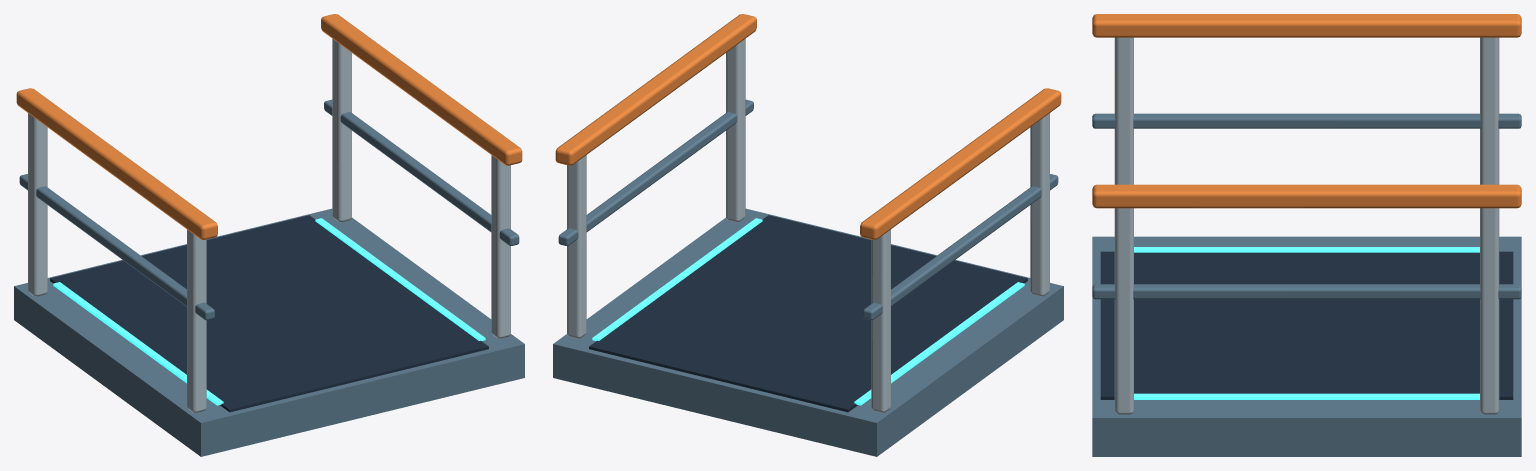
File: bridge-segment.glb
3 renders of one model, left to right at view 1: azimuth 30°, elevation 25°; view 2: azimuth 150°, elevation 25°; view 3: azimuth 270°, elevation 25°, orthographic. The views are drawn at different scales.
Parts seen in each view (by area): view 1: inset, deck, rail--0.94, rail-0.94, post-0.94-0.85, post--0.94-0.85, post-0.94--0.85, post--0.94--0.85, midrail-0.94, midrail--0.94, strip-0.94, strip--0.94; view 2: inset, deck, rail--0.94, rail-0.94, post-0.94--0.85, post--0.94--0.85, post-0.94-0.85, post--0.94-0.85, midrail-0.94, midrail--0.94, strip-0.94, strip--0.94; view 3: inset, deck, rail-0.94, rail--0.94, midrail--0.94, midrail-0.94, post-0.94--0.85, post-0.94-0.85, post--0.94--0.85, post--0.94-0.85, strip-0.94, strip--0.94.
Part boxes in pixels (<box>): inset: <box>50,215,488,412</box>; deck: <box>14,208,524,456</box>; rail--0.94: <box>16,88,217,239</box>; rail-0.94: <box>321,14,522,165</box>; post-0.94-0.85: <box>491,155,510,338</box>; post--0.94-0.85: <box>187,229,206,412</box>; post-0.94--0.85: <box>332,39,351,222</box>; post--0.94--0.85: <box>28,113,47,296</box>; midrail-0.94: <box>324,99,519,245</box>; midrail--0.94: <box>19,174,214,320</box>; strip-0.94: <box>315,218,485,340</box>; strip--0.94: <box>53,282,223,405</box>; inset: <box>589,215,1027,412</box>; deck: <box>553,208,1063,456</box>; rail--0.94: <box>860,88,1061,239</box>; rail-0.94: <box>555,14,756,165</box>; post-0.94--0.85: <box>567,155,586,338</box>; post--0.94--0.85: <box>871,229,890,412</box>; post-0.94-0.85: <box>726,39,745,222</box>; post--0.94-0.85: <box>1030,113,1049,296</box>; midrail-0.94: <box>558,99,753,245</box>; midrail--0.94: <box>863,174,1058,320</box>; strip-0.94: <box>592,218,762,340</box>; strip--0.94: <box>854,282,1024,405</box>; inset: <box>1100,251,1513,399</box>; deck: <box>1092,236,1521,456</box>; rail-0.94: <box>1092,184,1521,208</box>; rail--0.94: <box>1092,14,1521,37</box>; midrail--0.94: <box>1092,113,1521,128</box>; midrail-0.94: <box>1092,284,1521,299</box>; post-0.94--0.85: <box>1480,208,1499,414</box>; post-0.94-0.85: <box>1114,208,1133,414</box>; post--0.94--0.85: <box>1480,37,1499,184</box>; post--0.94-0.85: <box>1114,37,1133,184</box>; strip-0.94: <box>1134,393,1479,399</box>; strip--0.94: <box>1134,247,1479,252</box>.
Bounding box in the file's own units: 2 × 1.36 × 2.
